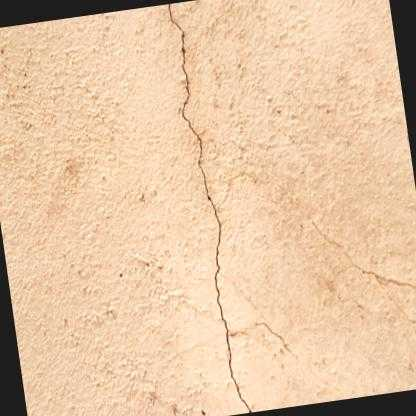crack: (166, 3, 254, 412)
